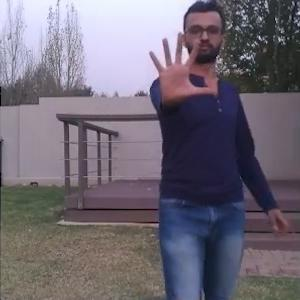follow_hand: (144, 27, 216, 107)
